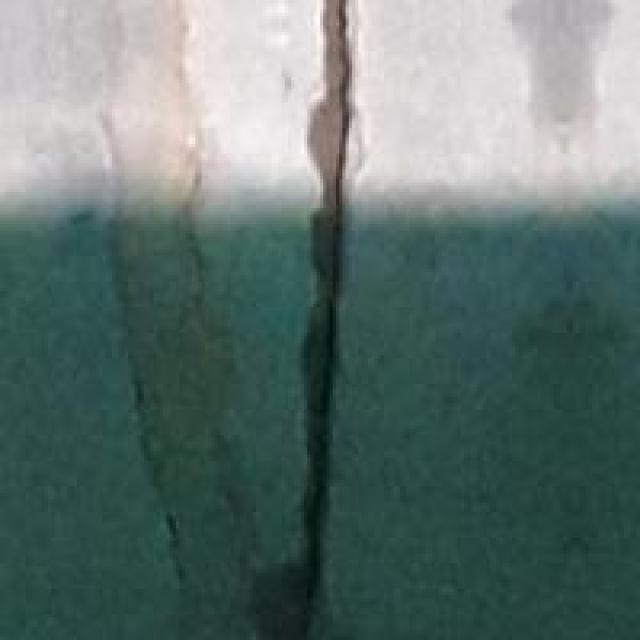Crack: (195, 0, 426, 634)
